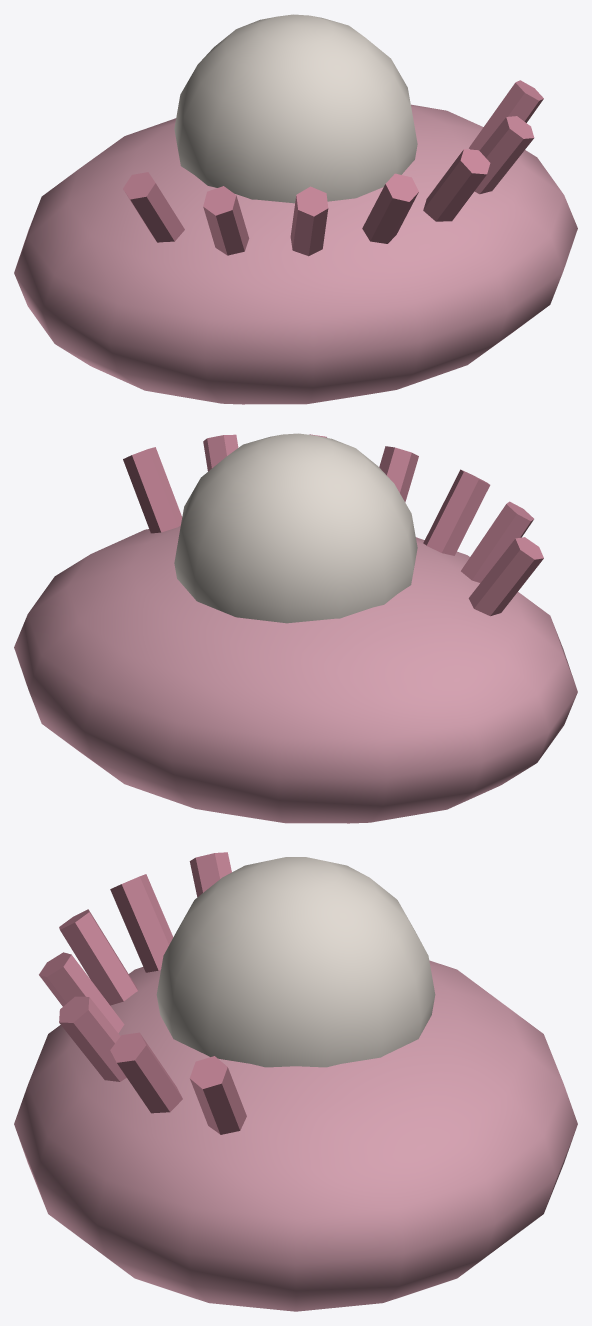
File: deco_pearl_shell_lite.glb
3 views of the same model, one above another, from view 1: azimuth 30°, elevation 25°; view 2: azimuth 150°, elevation 25°; view 3: azimuth 270°, elevation 25° (orthographic). The views are drawn at different scales.
Visible parts, largest first — view 1: Sphere; view 2: Sphere; view 3: Sphere.
Part boxes in pixels (box(x1,y1,x2,y2)): Sphere: box(14, 14, 577, 404); Sphere: box(14, 433, 577, 823); Sphere: box(14, 852, 577, 1311).
Size of the model in its own units: 2 by 1.27 by 1.7.
